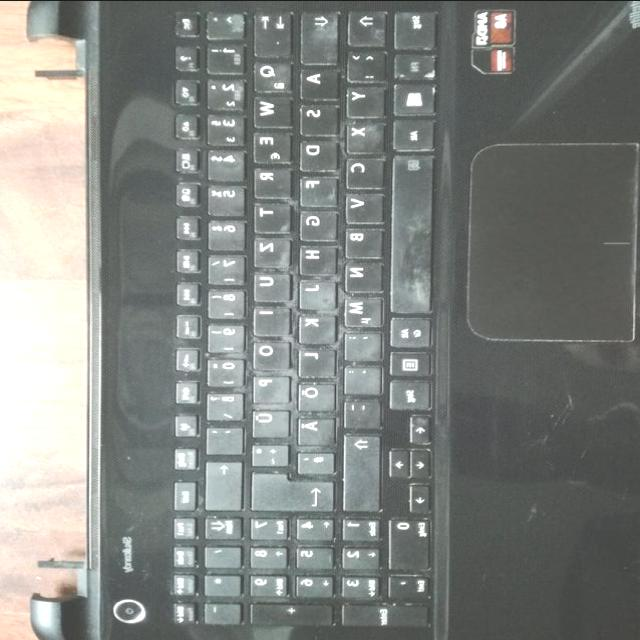0: (202, 354, 242, 384)
1: (202, 39, 242, 71)
2: (202, 75, 242, 108)
3: (202, 110, 242, 143)
4: (202, 146, 242, 178)
5: (203, 180, 242, 212)
6: (203, 216, 242, 248)
7: (203, 251, 242, 282)
8: (203, 285, 242, 315)
9: (203, 320, 242, 350)
a: (295, 65, 336, 96)
accent: (201, 422, 240, 452)
ae: (292, 413, 332, 443)
alt-left: (388, 115, 432, 148)
altgr-right: (385, 314, 428, 346)
b: (339, 223, 380, 255)
c: (340, 153, 381, 185)
caret: (201, 7, 243, 34)
comma: (339, 328, 378, 358)
d: (294, 135, 335, 167)
del: (199, 457, 239, 507)
e: (248, 127, 289, 160)
enter: (245, 468, 331, 508)
f: (294, 172, 334, 202)
g: (294, 207, 334, 237)
h: (294, 241, 334, 271)
hash: (291, 448, 331, 470)
i: (249, 302, 288, 332)
j: (294, 275, 333, 306)
k: (293, 310, 333, 340)
keyboard: (152, 0, 454, 640)
l: (294, 344, 333, 374)
less: (342, 47, 383, 80)
m: (338, 293, 380, 325)
minus: (339, 395, 378, 425)
n: (339, 258, 379, 289)
o: (247, 335, 288, 366)
oe: (292, 378, 333, 408)
p: (247, 370, 287, 400)
plus: (245, 439, 286, 463)
point: (338, 361, 378, 391)
q: (248, 56, 289, 88)
r: (249, 163, 289, 195)
s: (295, 100, 336, 132)
shift-left: (343, 5, 384, 43)
shift-lock: (295, 5, 336, 60)
shift-right: (337, 430, 377, 508)
space: (386, 150, 432, 310)
ss: (202, 388, 241, 418)
strg-left: (390, 4, 434, 47)
strg-right: (385, 376, 428, 408)
t: (248, 199, 288, 229)
tab: (248, 7, 290, 53)
u: (249, 268, 288, 299)
ue: (246, 405, 287, 435)
v: (340, 189, 380, 221)
w: (247, 91, 289, 124)
x: (341, 118, 380, 150)
y: (342, 83, 382, 115)
z: (248, 233, 288, 264)
